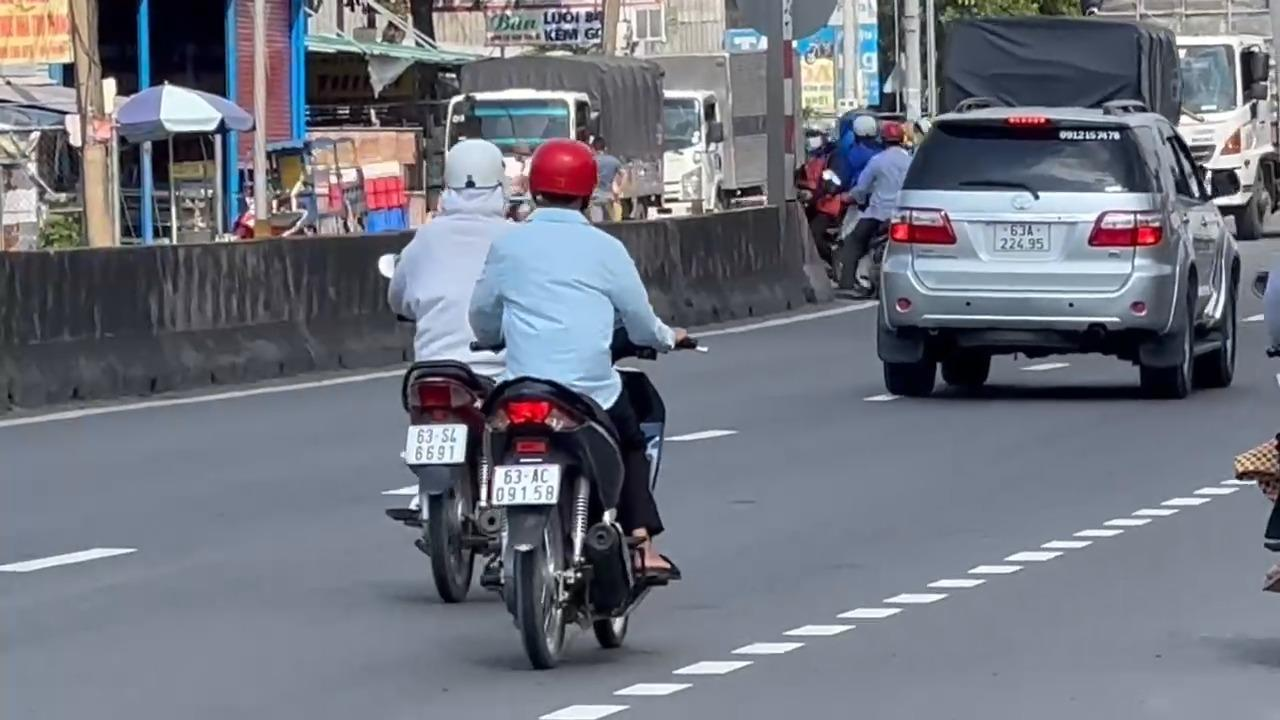bien_so: (489, 462, 561, 506), (404, 422, 467, 465), (989, 221, 1052, 253)
